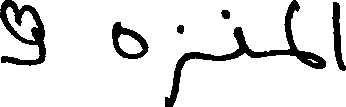9: (0, 0, 46, 66)
ا: (330, 0, 345, 71)
ز: (165, 23, 188, 106)
ل: (283, 0, 303, 61)
م: (289, 51, 327, 71)
ن: (219, 8, 249, 59)
ه: (109, 20, 147, 60)
